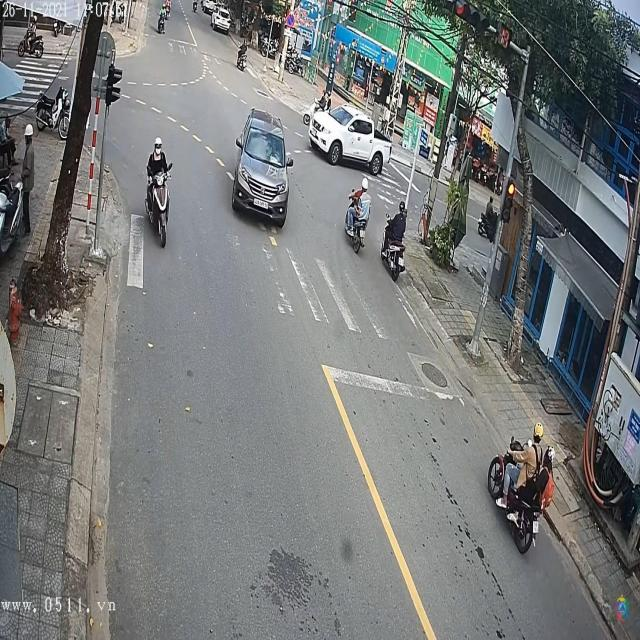car: (232, 112, 289, 227), (305, 105, 392, 173)
motorcycle: (485, 436, 545, 557), (143, 160, 174, 252), (378, 212, 408, 283), (344, 187, 368, 253)
